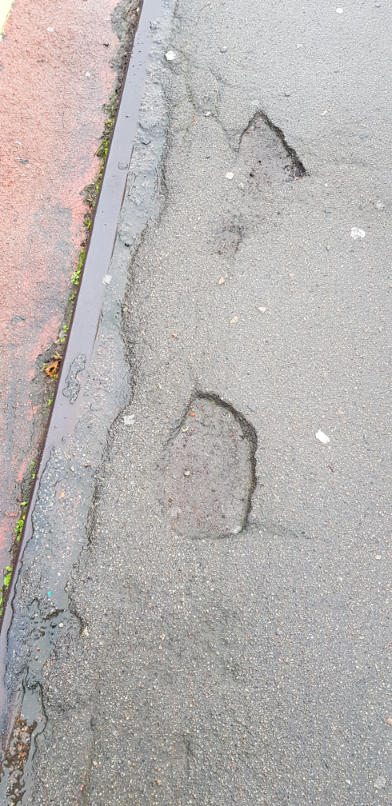pothole: (188, 256, 265, 490), (51, 159, 94, 330)
